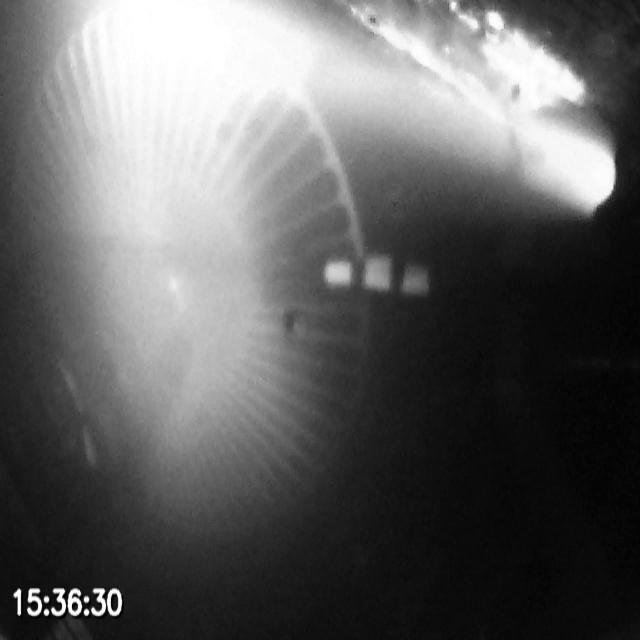white-dots: (320, 251, 433, 299)
